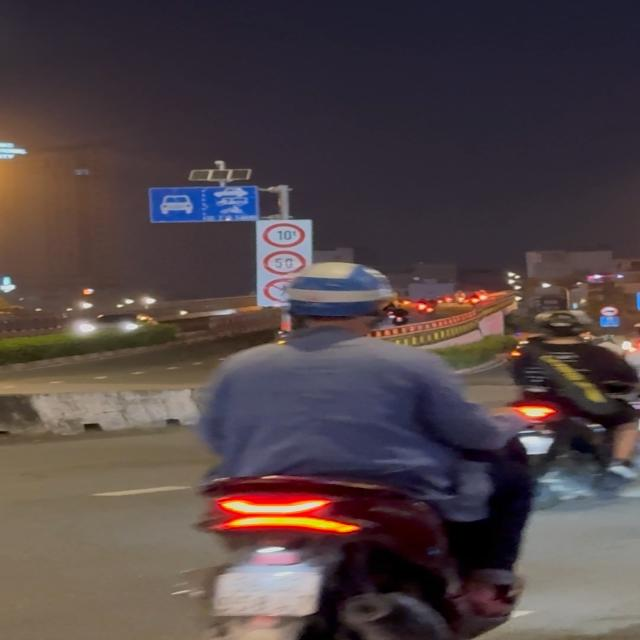Bien bao toc do toi da cho phep: (264, 251, 308, 275)
